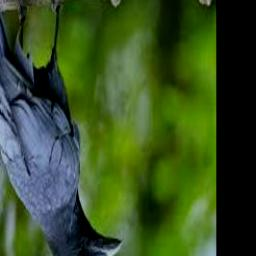Crow: (0, 0, 123, 256)
